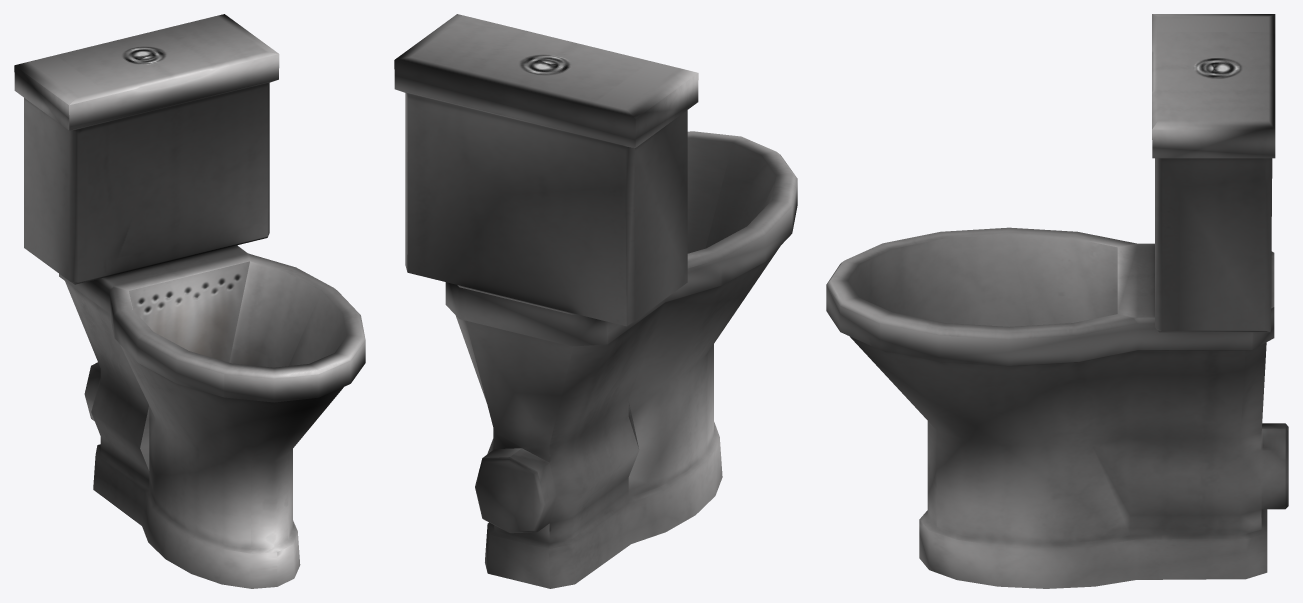
The model's file is toilet.obj.
The picture shows the model from 3 angles, left to right: view 1: azimuth 30°, elevation 25°; view 2: azimuth 150°, elevation 25°; view 3: azimuth 270°, elevation 25°; orthographic projection. The views are drawn at different scales.
Parts seen in each view (by area): view 1: toilet; view 2: toilet; view 3: toilet.
Boxes of the visible parts, bbox=[...] form: toilet: bbox=[14, 14, 365, 588]; toilet: bbox=[394, 14, 797, 588]; toilet: bbox=[826, 14, 1288, 588].
Bounding box in the file's own units: 124 × 245 × 209.
Materials: 1 (1 with a texture image).
